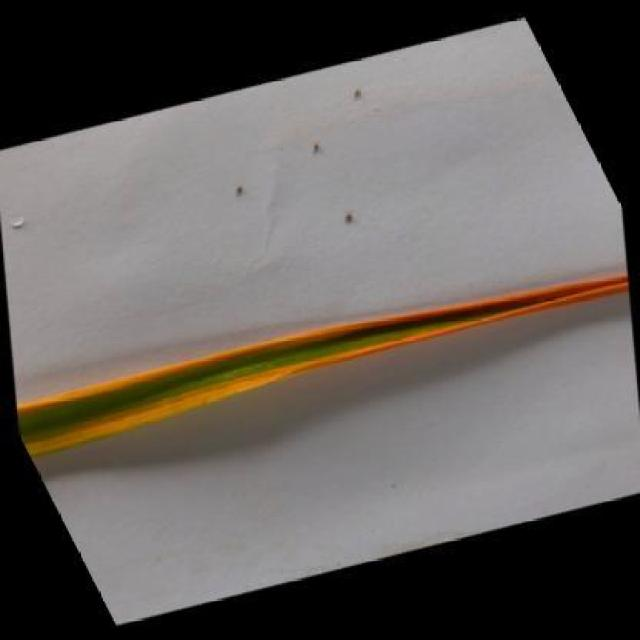Rice False Smut: (0, 106, 635, 567)
